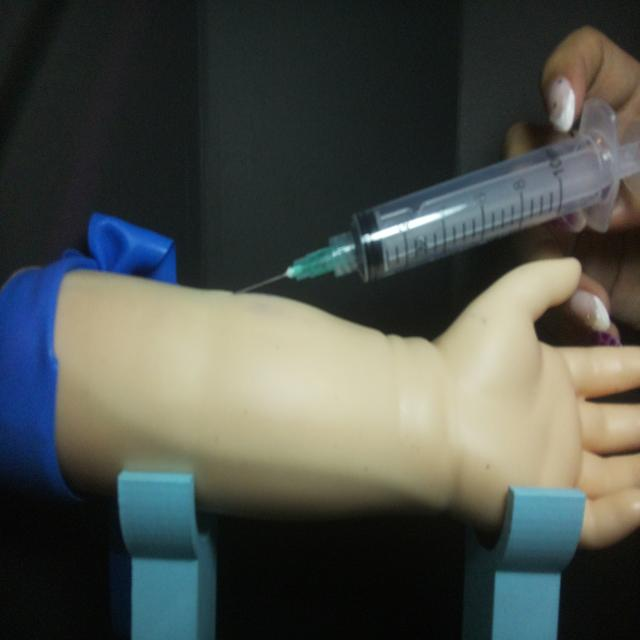21deg: (230, 94, 636, 299)
